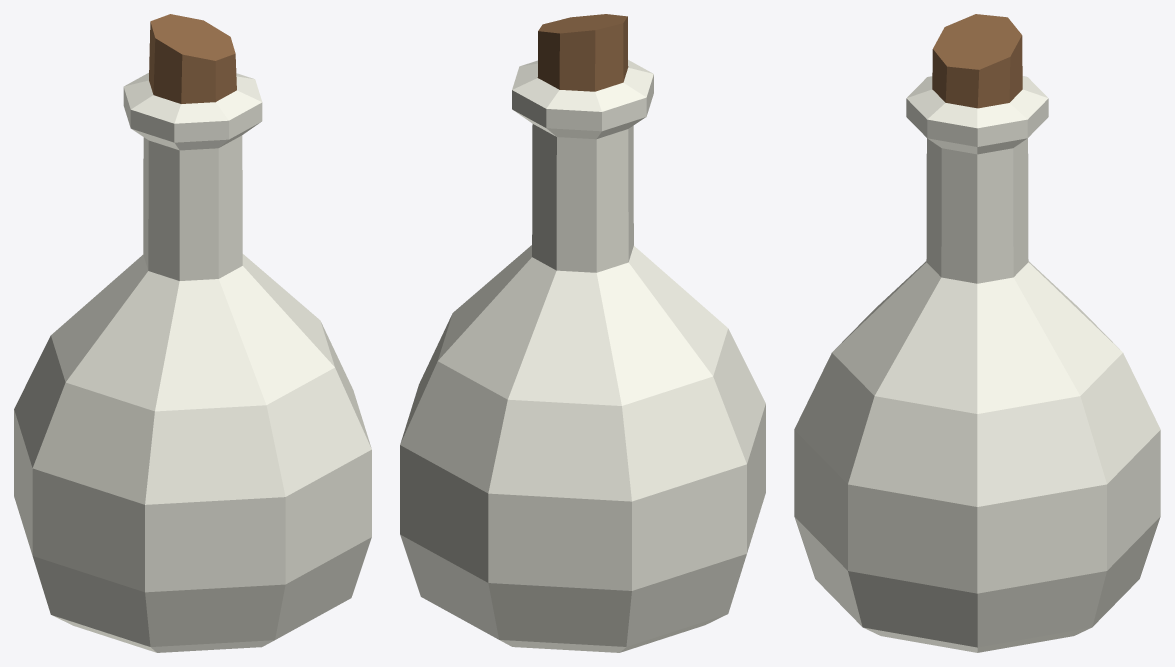
File: Food_milk.glb
3 views of the same model, side by side, from view 1: azimuth 30°, elevation 25°; view 2: azimuth 150°, elevation 25°; view 3: azimuth 270°, elevation 25° (orthographic). The views are drawn at different scales.
Visible parts, largest first — view 1: milk; view 2: milk; view 3: milk.
Boxes of the visible parts, x1,y1,x2,y2 form: milk: (14, 14, 371, 652); milk: (400, 14, 765, 652); milk: (794, 14, 1160, 652).
Bounding box in the file's own units: 0.1741 × 0.296 × 0.1741.
Materials: 1 (1 with a texture image).
